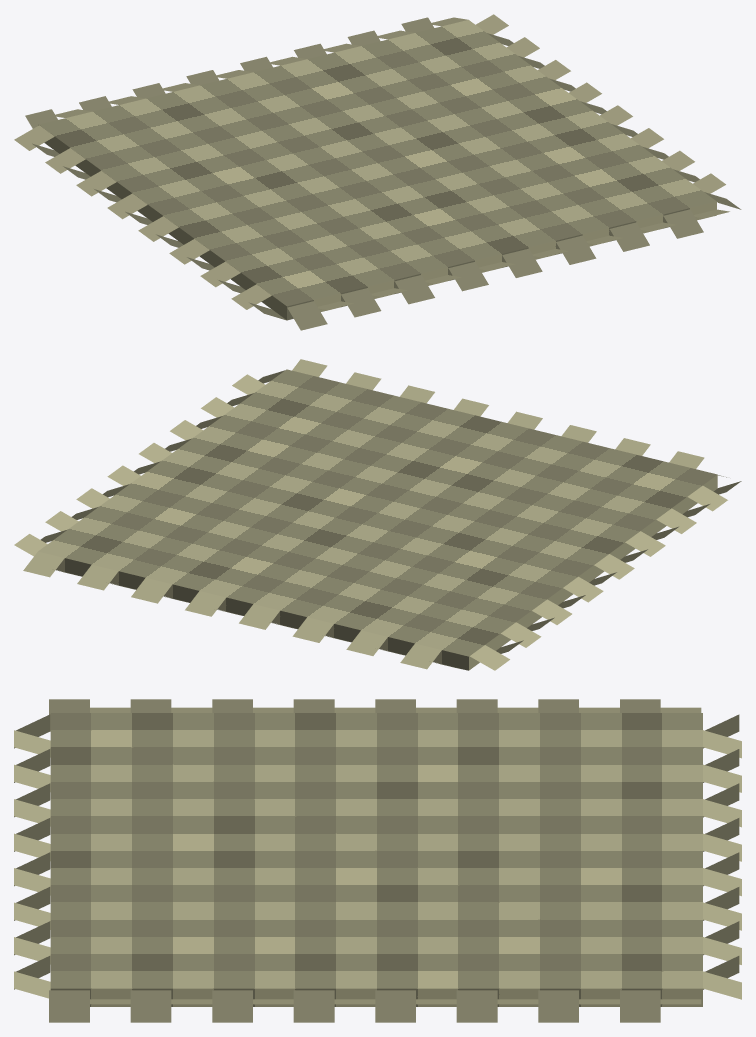
Rendered from carpet.fbx.
3 renders of one model, top to bottom at view 1: azimuth 30°, elevation 25°; view 2: azimuth 150°, elevation 25°; view 3: azimuth 270°, elevation 25°, orthographic. The views are drawn at different scales.
Parts seen in each view (by area): view 1: cube, cube_32, cube_25, cube_30, cube_18, cube_20, cube_21, cube_23, cube_28, cube_40, cube_33, cube_35 (+5 smaller); view 2: cube, cube_6, cube_14, cube_4, cube_7, cube_9, cube_11, cube_2, cube_16, cube_33, cube_42, cube_43 (+5 smaller); view 3: cube, cube_53, cube_57, cube_62, cube_50, cube_52, cube_55, cube_60, cube_64, cube_16, cube_9, cube_2 (+21 smaller).
Boxes of the visible parts, box(x1,y1,x2,y2) form: cube: box(38, 20, 716, 320); cube_32: box(287, 301, 327, 330); cube_25: box(556, 235, 596, 264); cube_30: box(341, 288, 381, 317); cube_18: box(663, 209, 703, 238); cube_20: box(610, 222, 649, 251); cube_21: box(448, 262, 488, 291); cube_23: box(502, 248, 542, 277); cube_28: box(395, 275, 434, 304); cube_40: box(107, 193, 147, 219); cube_33: box(14, 125, 54, 150); cube_35: box(45, 148, 85, 173); cube: box(38, 369, 717, 670); cube_6: box(292, 617, 333, 642); cube_14: box(77, 564, 118, 590); cube_4: box(346, 630, 387, 655); cube_7: box(131, 578, 172, 603); cube_9: box(185, 591, 226, 616); cube_11: box(239, 604, 279, 629); cube_2: box(400, 643, 441, 669); cube_16: box(23, 551, 64, 577); cube_33: box(470, 645, 509, 670); cube_42: box(532, 599, 571, 624); cube_43: box(625, 531, 665, 556); cube: box(50, 713, 702, 1006); cube_53: box(293, 990, 334, 1022); cube_57: box(456, 990, 497, 1022); cube_62: box(130, 990, 171, 1022); cube_50: box(620, 990, 660, 1022); cube_52: box(538, 990, 578, 1022); cube_55: box(375, 990, 415, 1022); cube_60: box(212, 990, 252, 1022); cube_64: box(49, 990, 89, 1022); cube_16: box(703, 971, 741, 999); cube_9: box(703, 868, 741, 896); cube_2: box(703, 730, 741, 758).
Bounding box in the file's own units: 112 × 3.13 × 112.
Materials: 1 (1 with a texture image).
